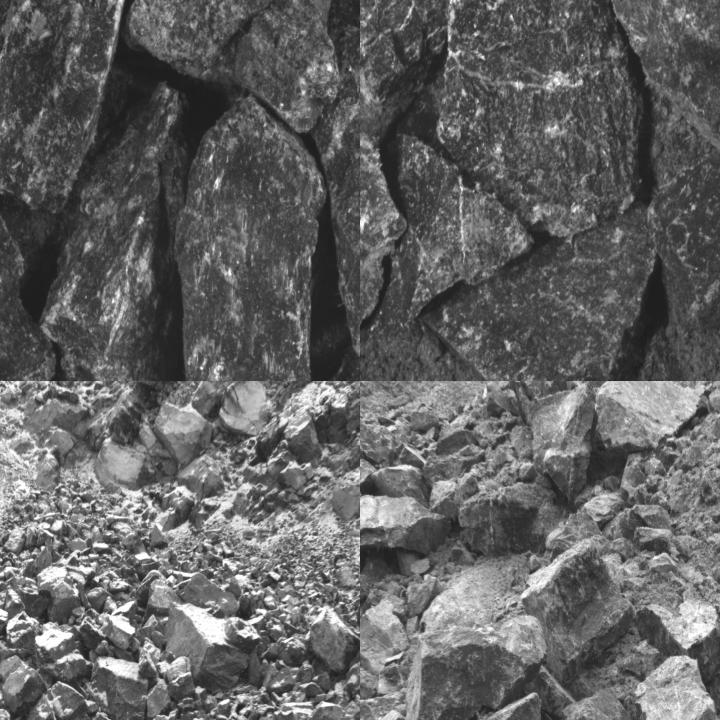stone: (438, 0, 644, 238), (161, 92, 325, 380), (39, 83, 188, 380), (417, 204, 660, 380), (407, 542, 636, 719), (387, 128, 538, 338), (0, 0, 129, 215), (607, 0, 719, 184), (126, 0, 331, 86), (522, 542, 636, 680), (360, 0, 471, 139), (315, 21, 359, 352), (237, 0, 339, 134), (648, 149, 719, 329), (0, 215, 56, 380), (360, 132, 400, 357), (529, 382, 596, 509), (458, 483, 569, 558), (596, 381, 705, 451), (635, 598, 719, 685), (166, 604, 247, 690), (360, 495, 454, 569), (635, 656, 717, 719), (89, 655, 152, 719), (360, 598, 410, 676), (310, 607, 359, 671), (422, 445, 486, 492), (546, 510, 603, 562), (0, 655, 46, 716), (34, 625, 85, 680), (438, 693, 542, 719), (26, 682, 95, 719), (561, 687, 640, 719), (430, 472, 479, 522), (360, 408, 399, 468), (371, 466, 429, 505), (184, 576, 236, 614), (145, 578, 180, 623), (6, 612, 42, 654), (360, 689, 410, 719), (166, 656, 194, 702), (224, 618, 261, 652), (146, 680, 172, 720), (296, 701, 347, 719), (394, 443, 425, 470), (276, 700, 316, 719), (345, 642, 359, 694)
